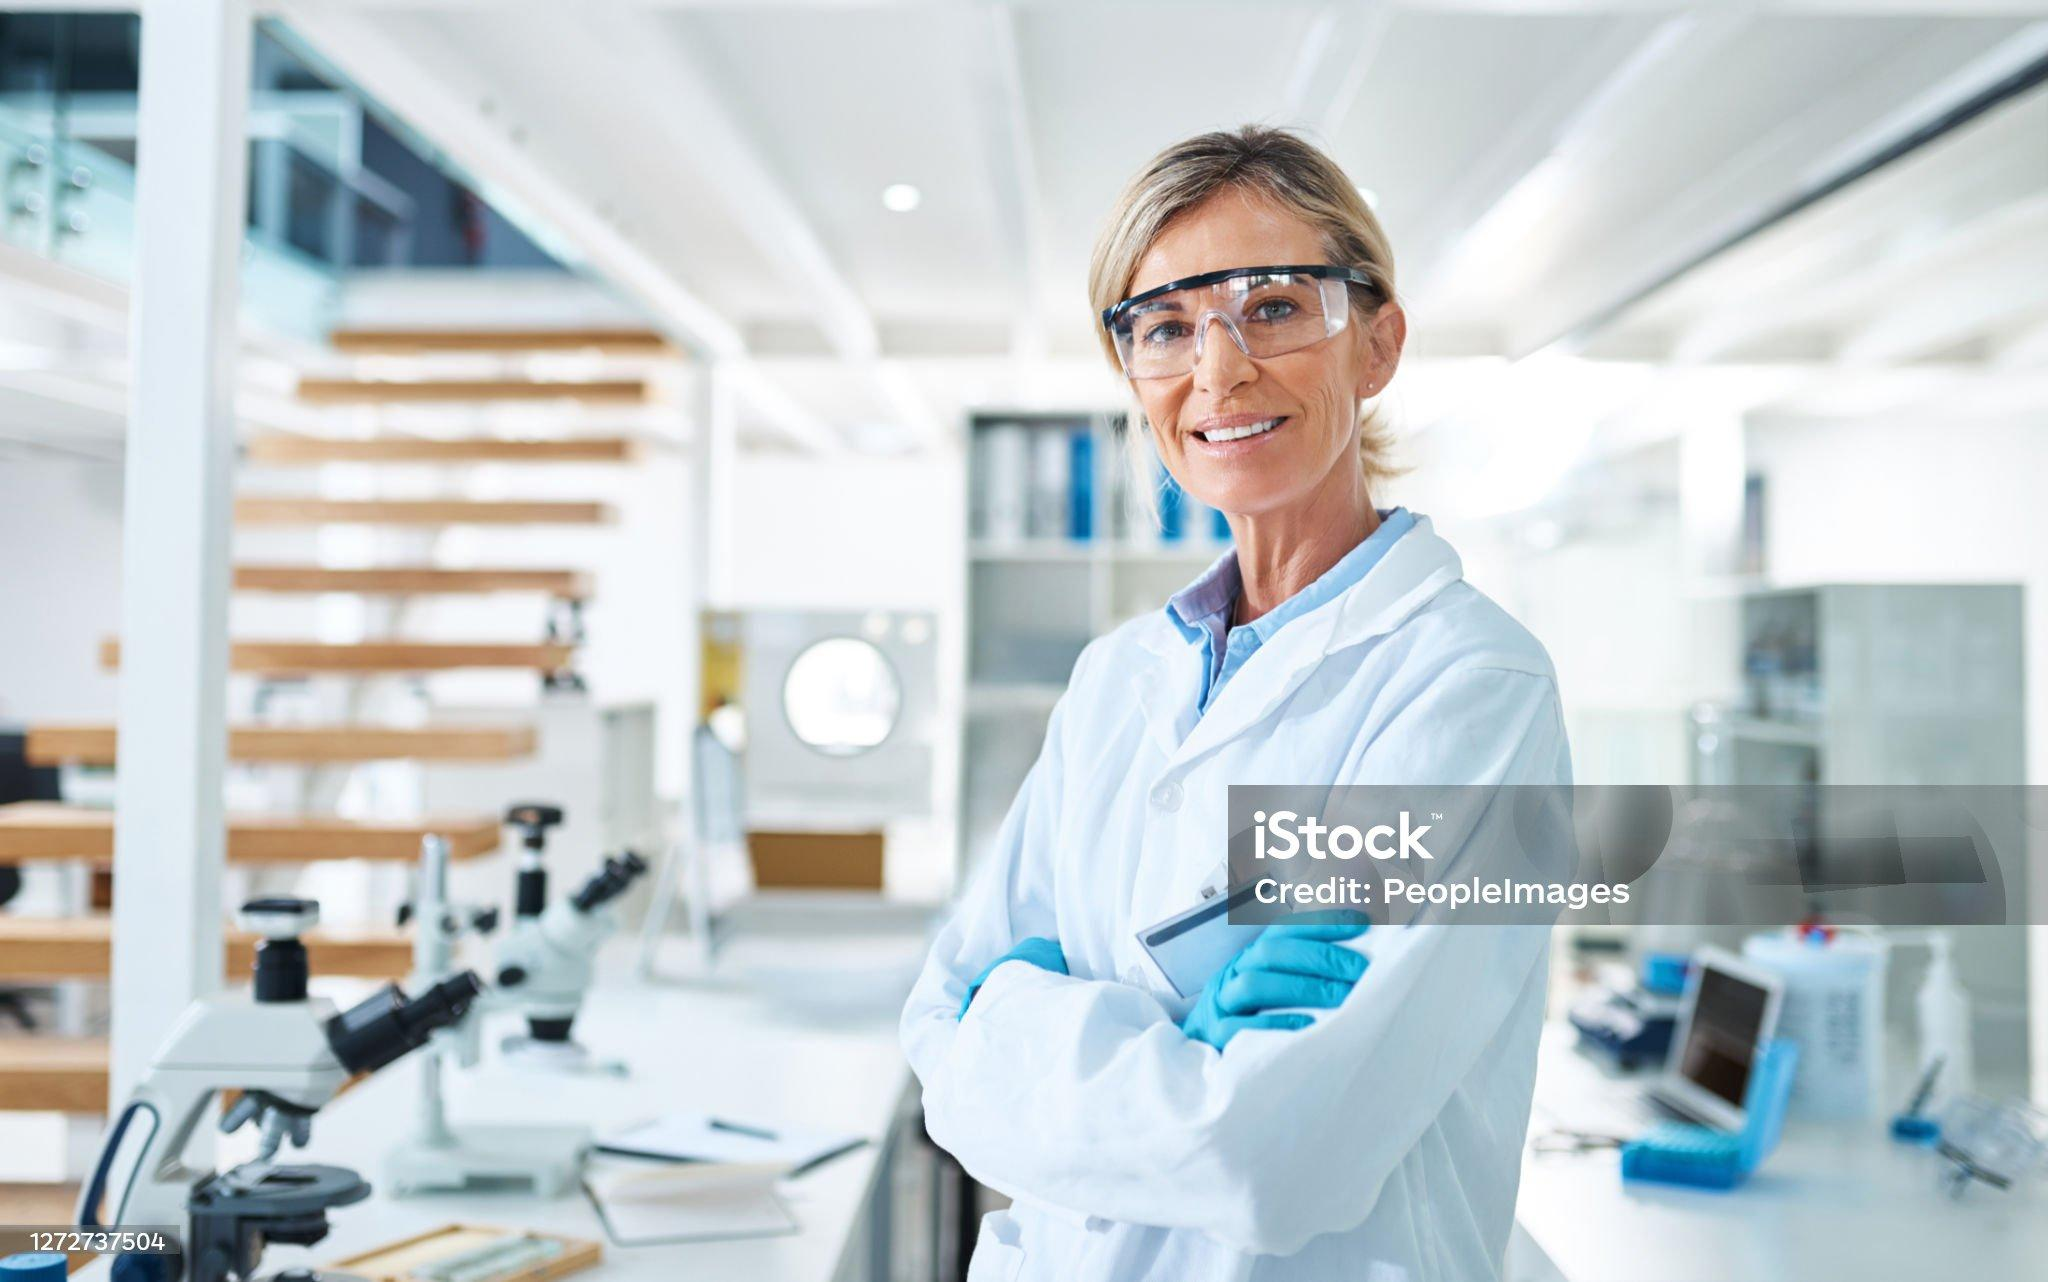Goggles: (1102, 264, 1389, 385)
